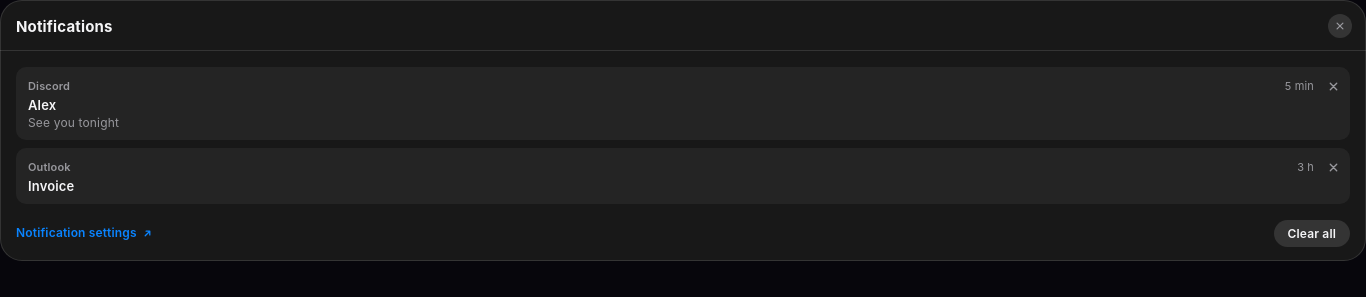
Test: one that can't be opened stays, and says so
Click the text "Alex": (42, 105) [28,97,56,113]
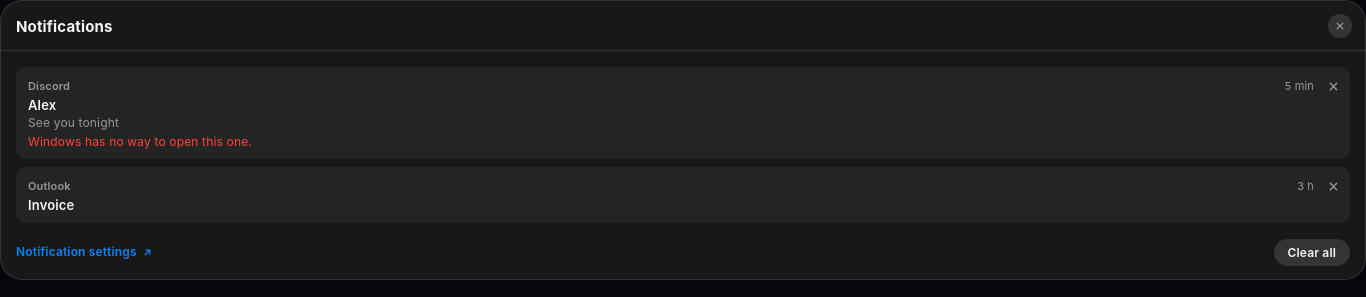
Check: the text "Windows has no way to open this one." is shown, box [28,134,252,149]
